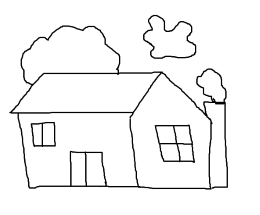closed_window: (154, 124, 197, 163), (29, 121, 56, 148)
clouds: (19, 24, 121, 85), (141, 12, 198, 60)
door: (62, 146, 109, 191)
roof: (8, 69, 205, 115)
smoking_chimney: (194, 64, 235, 136)
wall: (13, 108, 141, 189)
